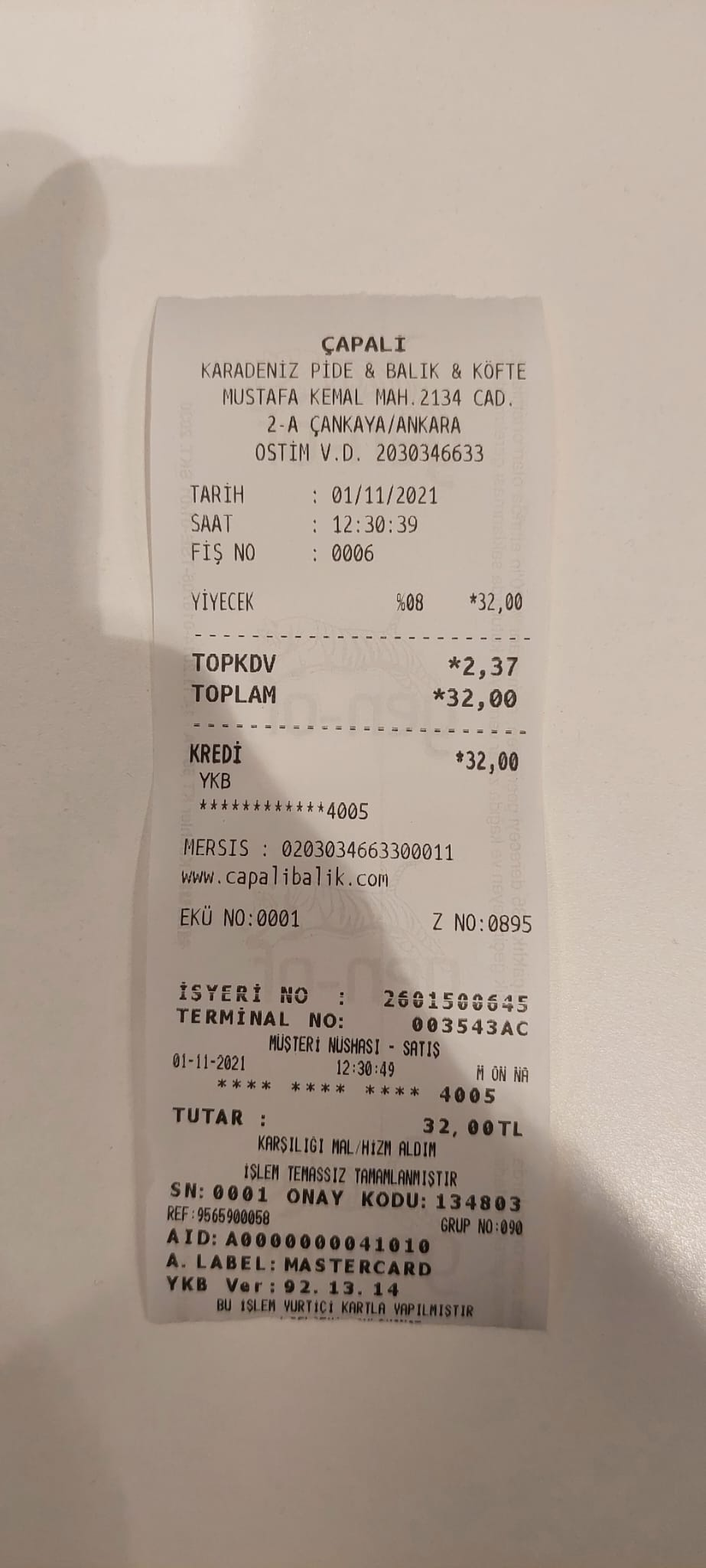date: (325, 479, 446, 512)
price: (443, 679, 523, 720)
workplace: (189, 327, 532, 436)
